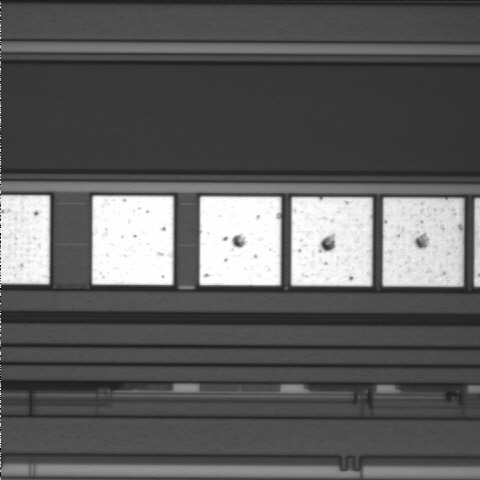pad: (92, 196, 174, 285), (199, 197, 281, 285), (291, 197, 372, 286), (383, 198, 464, 286)
